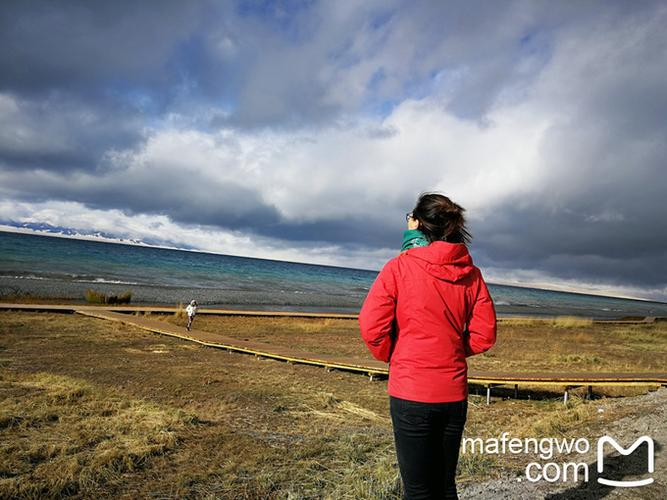sea_river: (2, 223, 663, 320)
sky_cloud: (3, 2, 666, 235)
